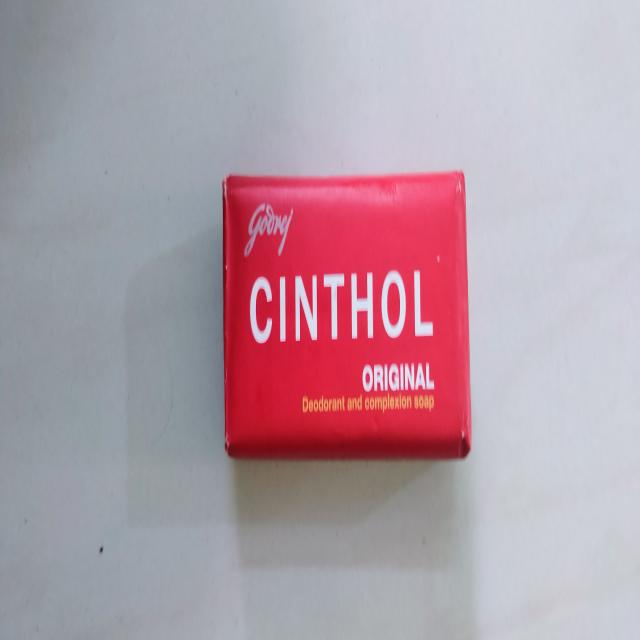soap: (219, 169, 473, 460)
